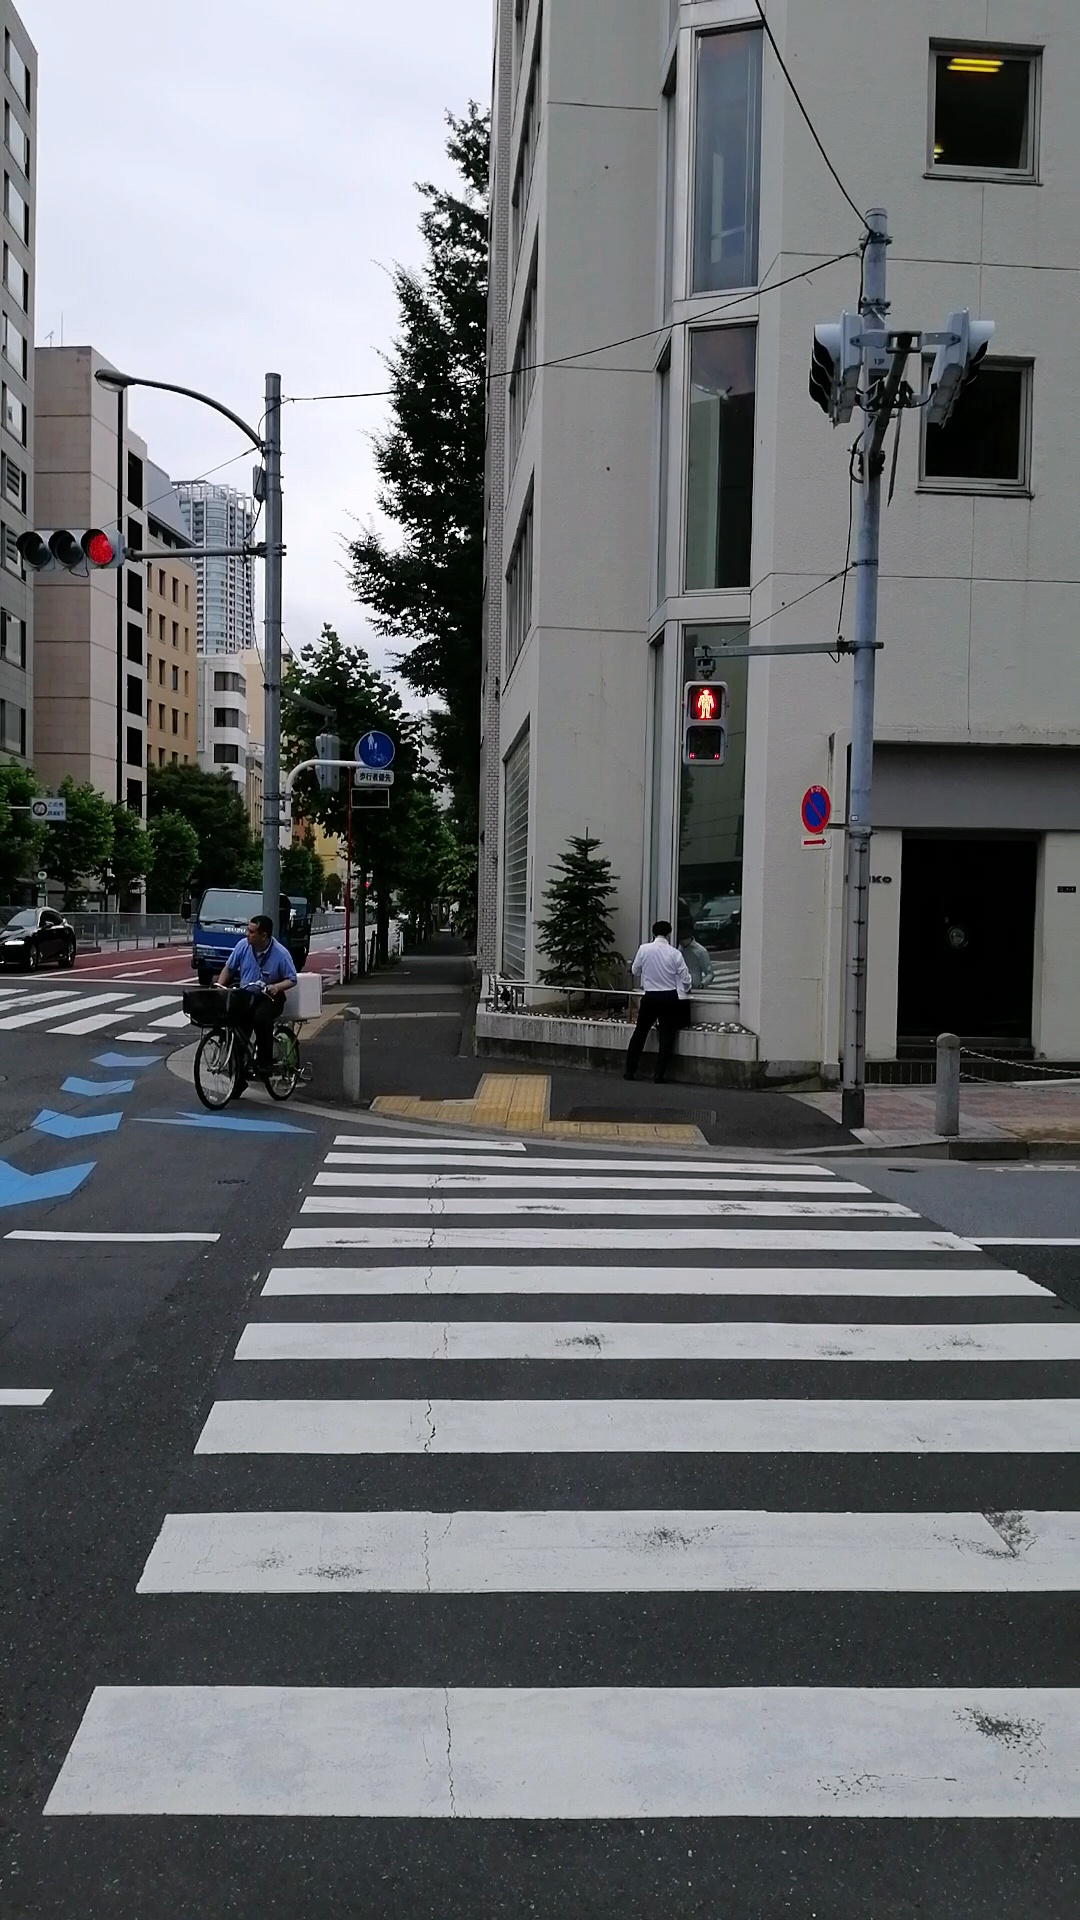red: (680, 678, 728, 766)
